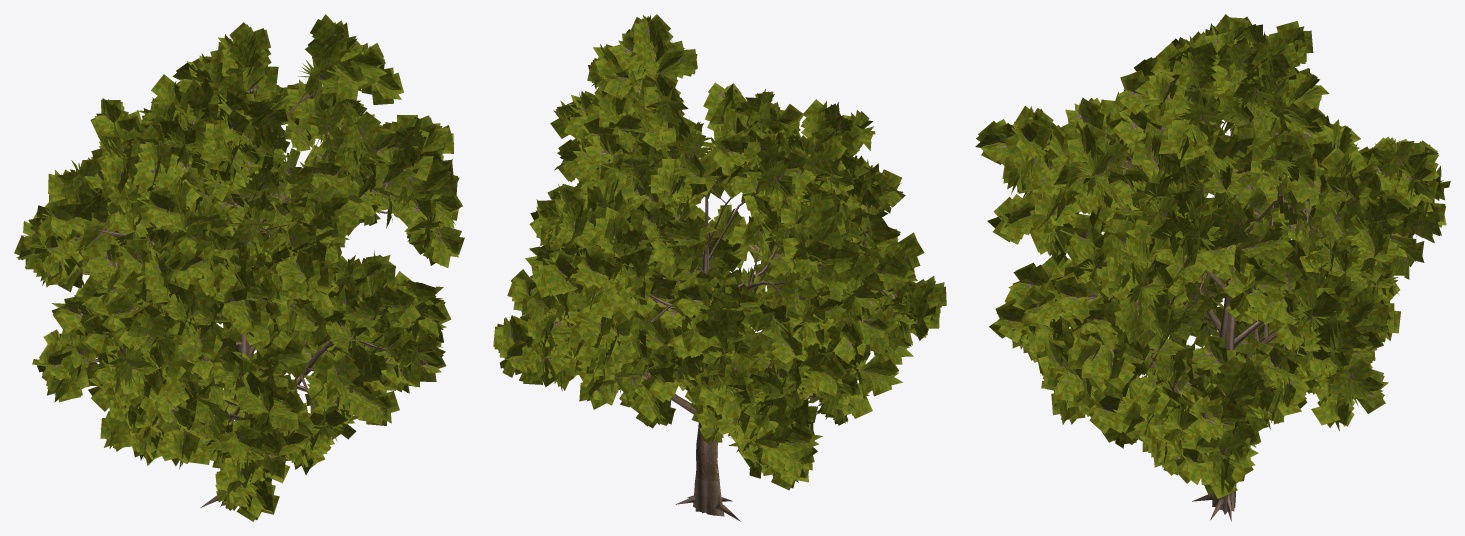
The model's file is maple-green.gltf.
The picture shows the model from 3 angles, left to right: view 1: azimuth 30°, elevation 25°; view 2: azimuth 150°, elevation 25°; view 3: azimuth 270°, elevation 25°; orthographic projection. The views are drawn at different scales.
Parts seen in each view (by area): view 1: Sugar maple Green; view 2: Sugar maple Green; view 3: Sugar maple Green.
Part boxes in pixels (left/top/right/bottom): Sugar maple Green: left=14, top=14, right=464, bottom=521; Sugar maple Green: left=493, top=14, right=946, bottom=521; Sugar maple Green: left=975, top=14, right=1450, bottom=521.
Bounding box in the file's own units: 759 × 891 × 758.
Materials: 2 (2 with a texture image).
